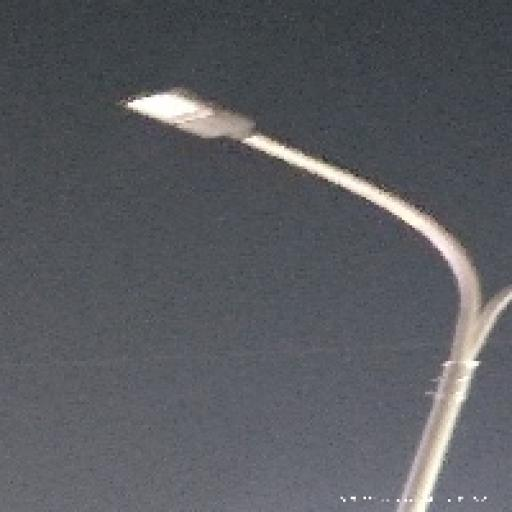Not Working: (115, 75, 280, 165)
